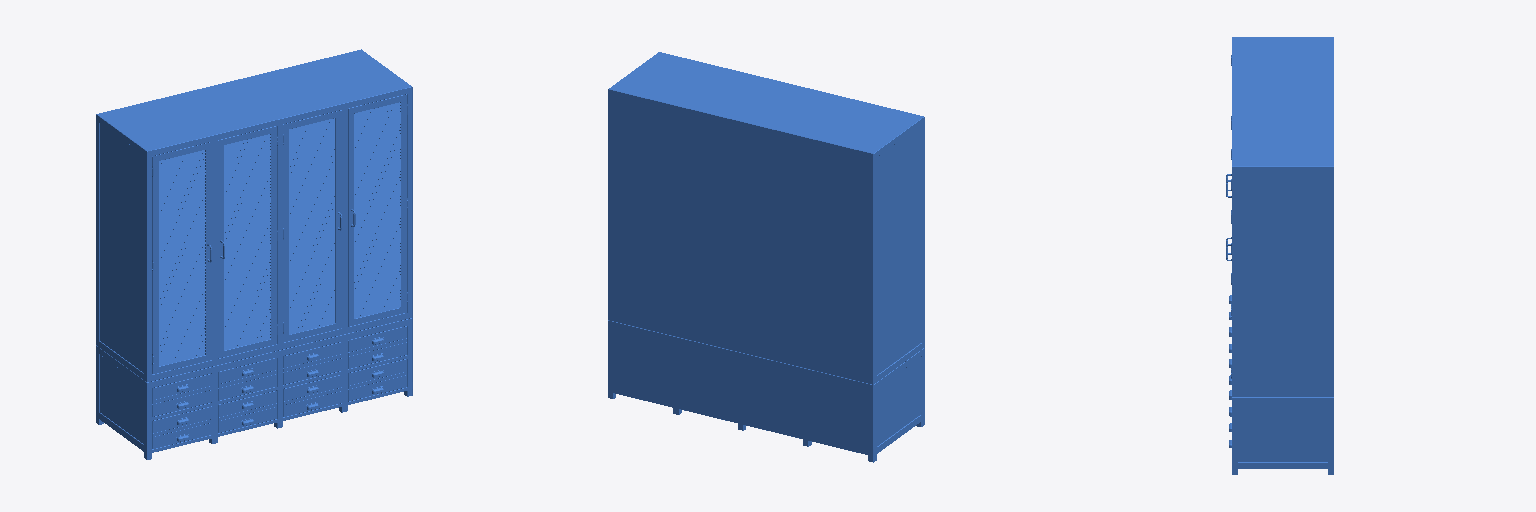
Rendered from wardrobe_.obj.
The picture shows the model from 3 angles: view 1: azimuth 30°, elevation 25°; view 2: azimuth 150°, elevation 25°; view 3: azimuth 270°, elevation 25°; orthographic projection.
Parts seen in each view (by area): view 1: wardrobe_001; view 2: wardrobe_001; view 3: wardrobe_001.
Part boxes in pixels (left/top/right/bottom): wardrobe_001: left=96, top=49, right=412, bottom=459; wardrobe_001: left=608, top=52, right=924, bottom=462; wardrobe_001: left=1226, top=37, right=1333, bottom=474.
Bounding box in the file's own units: 1800 × 2000 × 638.